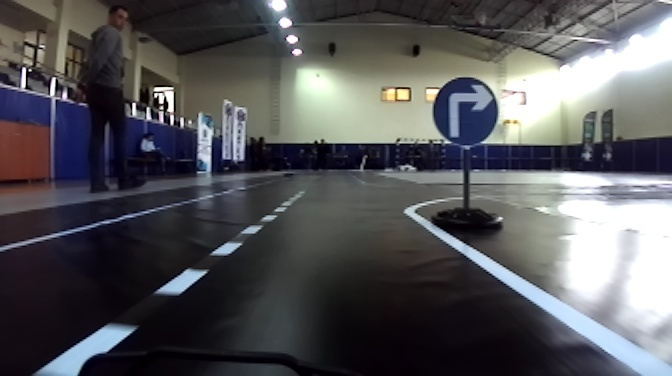saga_donus: (430, 75, 498, 145)
